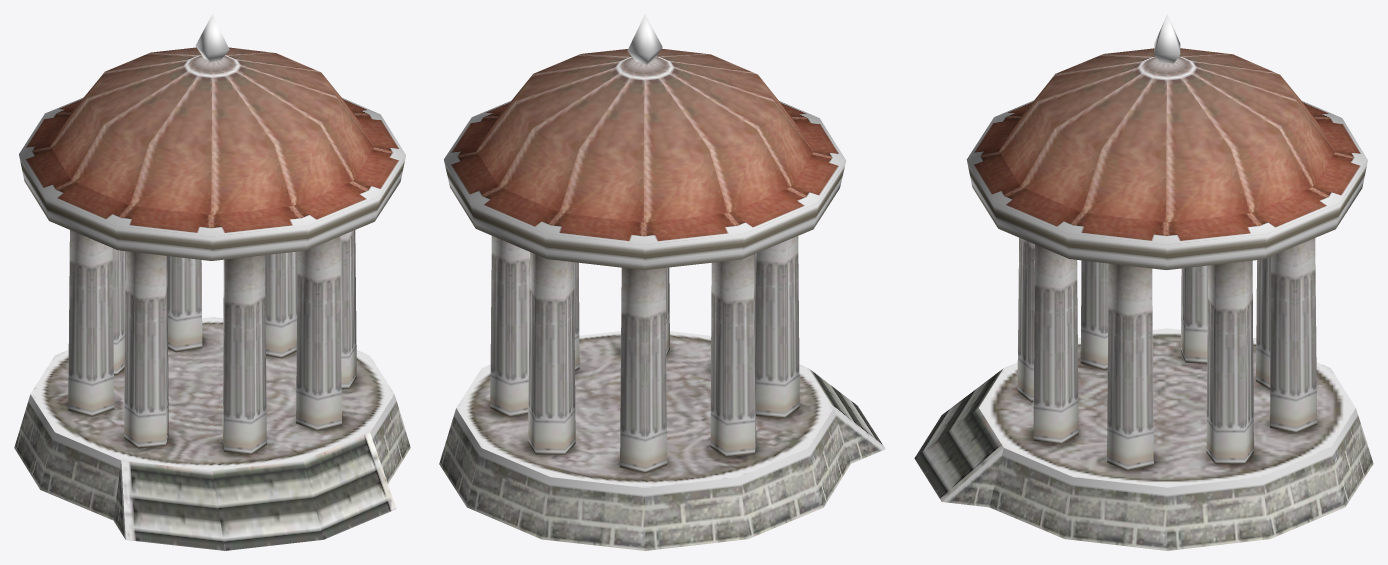
File: santuario_grego_base.glb
3 renders of one model, left to right at view 1: azimuth 30°, elevation 25°; view 2: azimuth 150°, elevation 25°; view 3: azimuth 270°, elevation 25°, orthographic. The views are drawn at different scales.
Visible parts, largest first — view 1: MeshRoot; view 2: MeshRoot; view 3: MeshRoot.
Part boxes in pixels (x1,y1,x2,y2): MeshRoot: [14, 14, 410, 550]; MeshRoot: [439, 14, 885, 550]; MeshRoot: [914, 14, 1373, 550].
Size of the model in its own units: 4 by 4.81 by 4.45.
2 materials, 2 textured.
